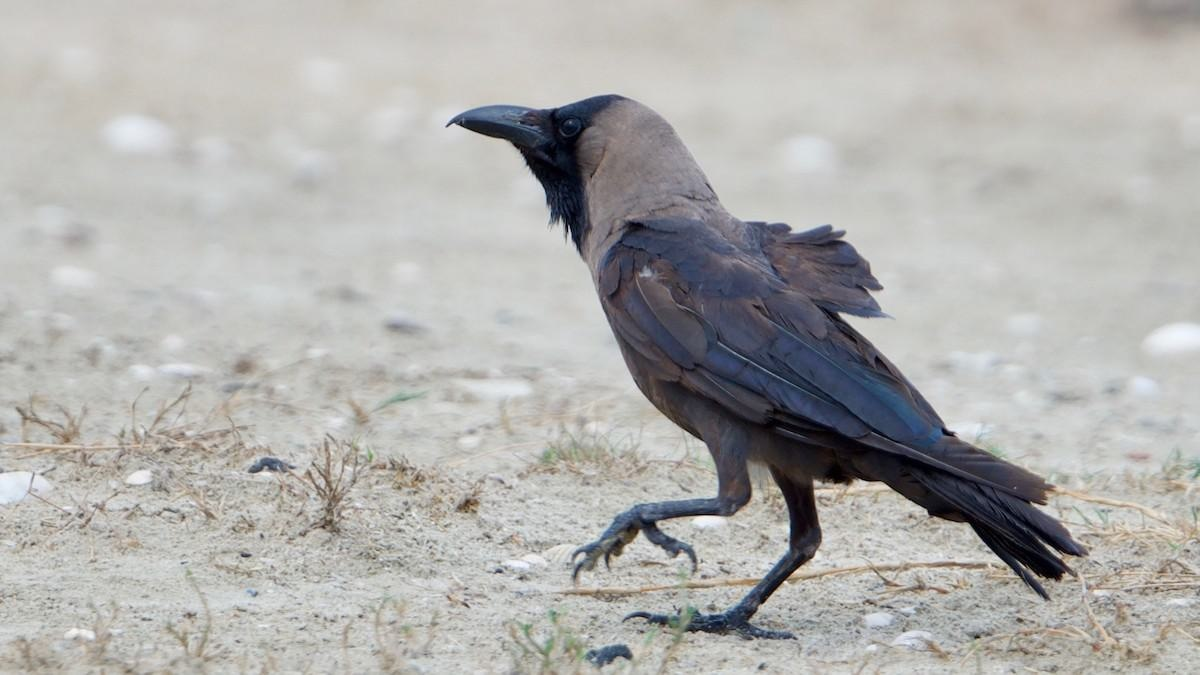crow: (443, 65, 1058, 675)
